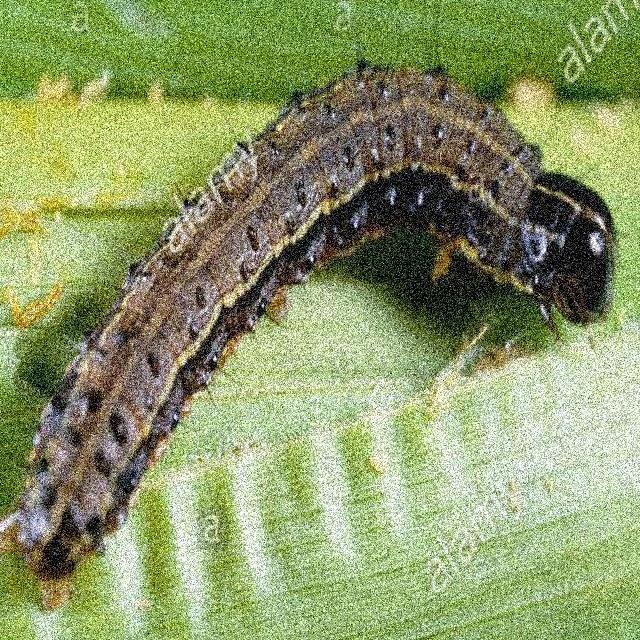Plaga: (1, 52, 624, 620)
